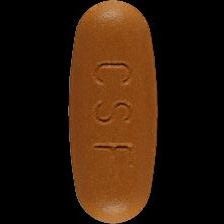0078-0490: (0, 0, 224, 224)
